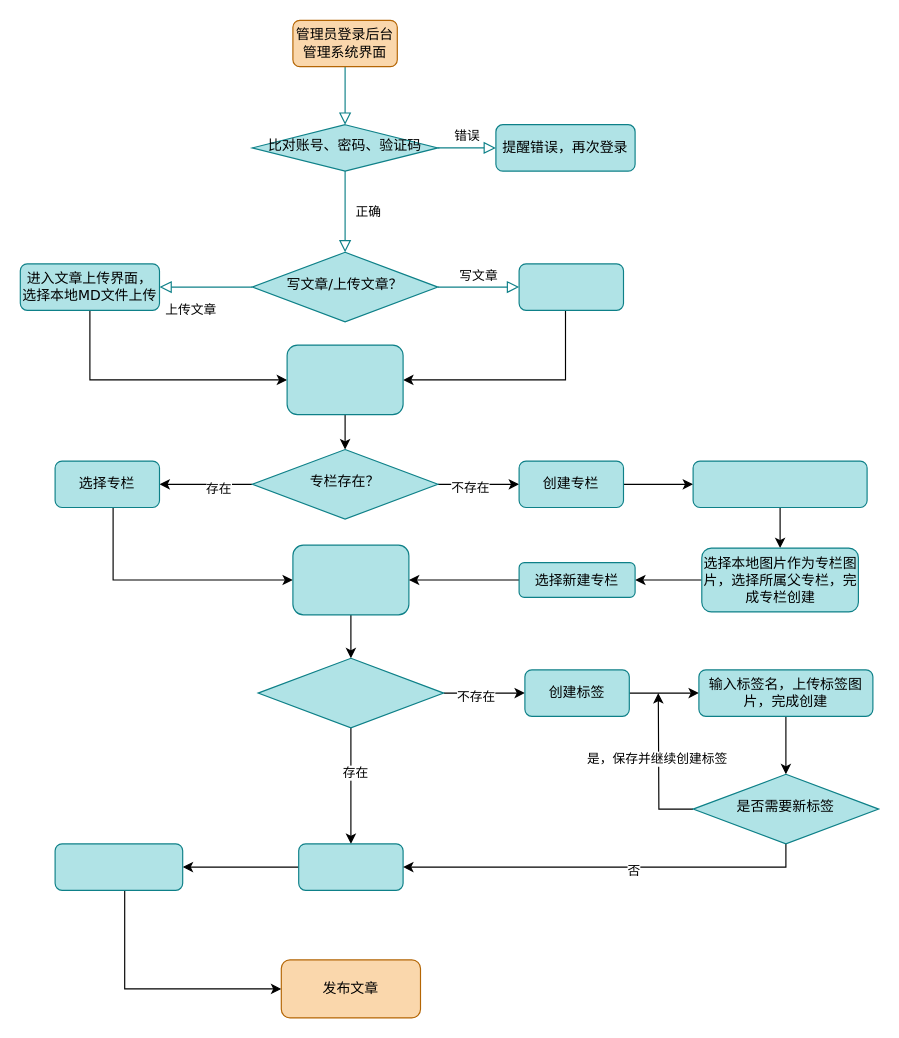
Image size: 899x1038. Some labels were removed from this diagram. Here are the shapes that lost their labels. From the top down, the centre of each, then its label:
point 571,286: 进入MD编辑器，编写博客
point 344,379: 选择本地图片作为封面图，并设置文章专栏
point 779,483: 输入专栏名称、专栏描述
point 350,579: 选择文章标签，可多选
point 350,692: 标签存在？
point 118,866: 编写文章摘要，或自动生成摘要
point 350,866: 选择标签
